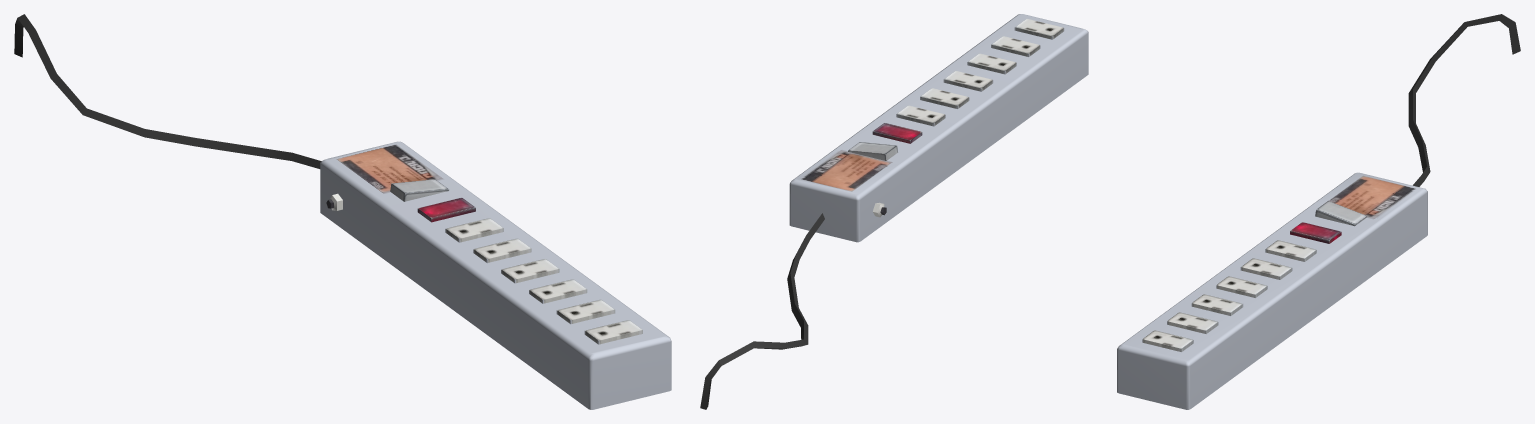
The model's file is Multiple.fbx.
The picture shows the model from 3 angles, left to right: view 1: azimuth 30°, elevation 25°; view 2: azimuth 150°, elevation 25°; view 3: azimuth 330°, elevation 25°; orthographic projection. The views are drawn at different scales.
Visible parts, largest first — view 1: Multiple; view 2: Multiple; view 3: Multiple.
Boxes of the visible parts, x1,y1,x2,y2 form: Multiple: (14,14,671,409); Multiple: (700,14,1088,409); Multiple: (1117,14,1520,409).
Bounding box in the file's own units: 0.1376 × 0.0494 × 0.6998.
